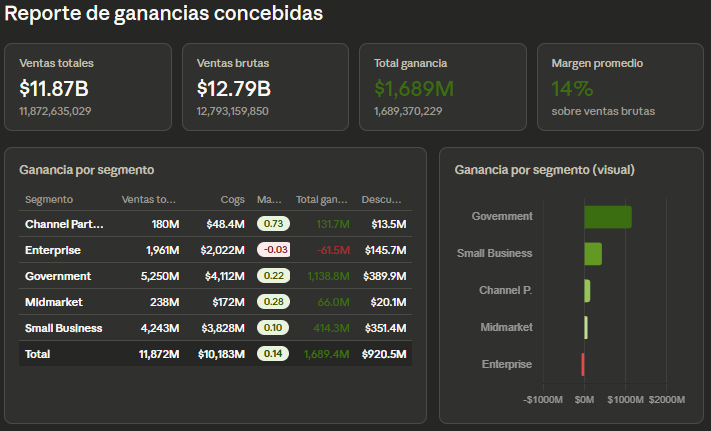

The dashboard page shown, as its layout file describes it:
{"tool":"powerbi","page":{"name":"3. Ganancias","canvas":[1280,720],"ordinal":2},"visuals":[{"type":"tableEx","title":"GANANCIA POR SEGMENTO","fields":{"Values":["staging_raw.segment","staging_raw.Ventas Totales","Sum(staging_raw.cogs)","staging_raw.Ventas Brutas Total","staging_raw.Margen %","Sum(staging_raw.discounts)","staging_raw.Total Ganancia"]},"box":[0,61.6,782.4,194.2],"z":0},{"type":"tableEx","title":"GANANCIA POR AÑO","fields":{"Values":["staging_raw.year","Sum(staging_raw.units_sold)","staging_raw.Ventas Brutas Total","staging_raw.Ventas Totales","Sum(staging_raw.cogs)","staging_raw.Total Ganancia","staging_raw.Margen %"]},"box":[0,313.9,739.4,132.5],"z":1},{"type":"tableEx","title":"GANANCIA POR PAIS","fields":{"Values":["staging_raw.country","Sum(staging_raw.units_sold)","Sum(staging_raw.cogs)","staging_raw.Total Ganancia","staging_raw.Margen %","staging_raw.Ventas Totales"]},"box":[0,547.6,739.4,172.1],"z":2},{"type":"barChart","title":"GANANCIA POR SEGMENTO","fields":{"Category":["staging_raw.segment"],"Y":["Sum(staging_raw.discounts)"]},"box":[739.4,265.1,522,454.6],"z":3},{"type":"textbox","box":[830.1,69.8,404.6,32.6],"z":4}]}

Visuals, with their boxes on the page's 1280x720 design canvas (x1, y1, x2, y2). These are canvas units, not pixel positions in the 711x431 screenshot, which may show the page scaled, cropped or inside an application window:
"GANANCIA POR SEGMENTO" tableEx: (0,62,782,256)
"GANANCIA POR AÑO" tableEx: (0,314,739,446)
"GANANCIA POR PAIS" tableEx: (0,548,739,720)
"GANANCIA POR SEGMENTO" barChart: (739,265,1261,720)
textbox: (830,70,1235,102)
